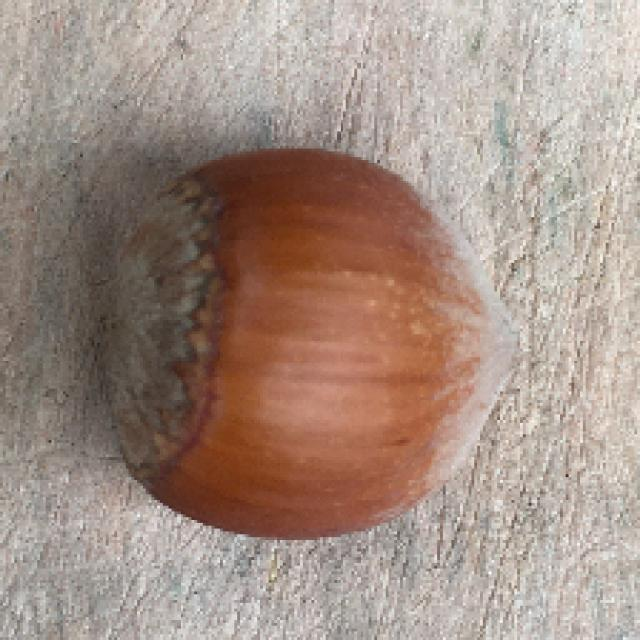qualityHazelnut: (88, 143, 530, 544)
